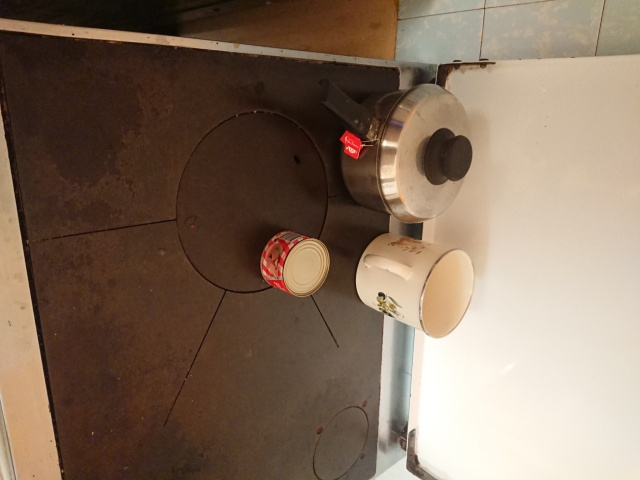Podravka Luncheon Meat 150g: (259, 229, 332, 299)
